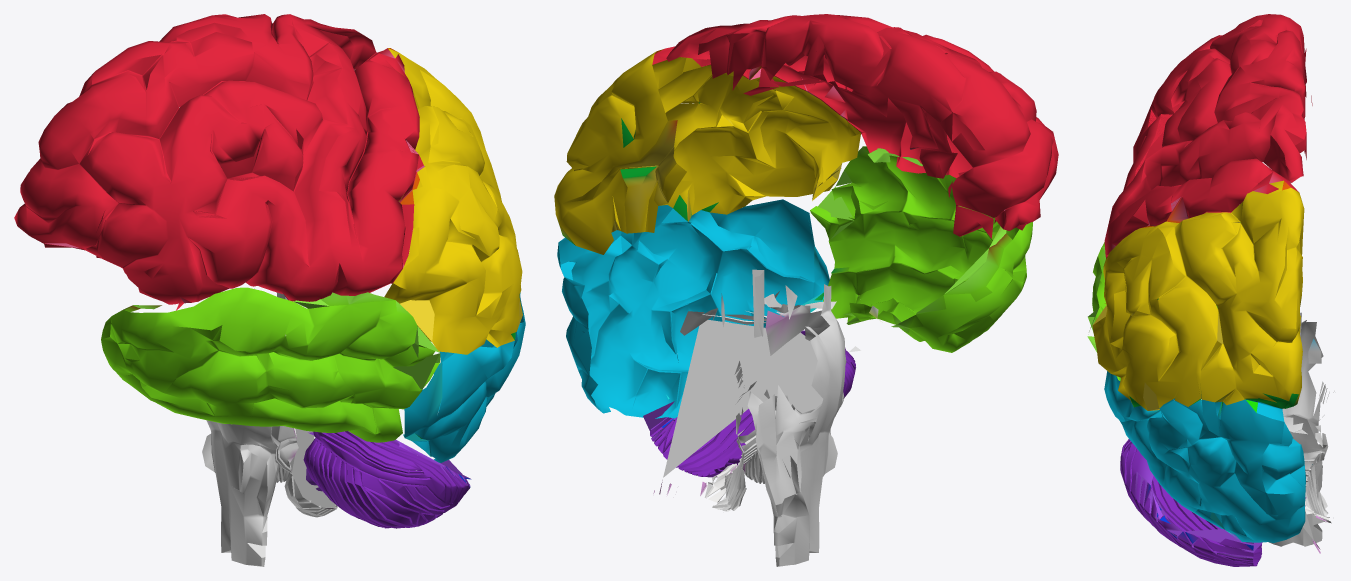
Rendered from brain.glb.
The picture shows the model from 3 angles, left to right: view 1: azimuth 30°, elevation 25°; view 2: azimuth 150°, elevation 25°; view 3: azimuth 270°, elevation 25°; orthographic projection. The views are drawn at different scales.
Visible parts, largest first — view 1: RedPart, GreenPart, YellowPart, VioletPart, WhitePart, BluePart; view 2: RedPart, YellowPart, BluePart, WhitePart, GreenPart, VioletPart; view 3: YellowPart, RedPart, BluePart, VioletPart, WhitePart, GreenPart.
Boxes of the visible parts, x1,y1,x2,y2 form: RedPart: [14, 14, 424, 310]; GreenPart: [101, 287, 440, 442]; YellowPart: [384, 48, 522, 354]; VioletPart: [303, 431, 471, 528]; WhitePart: [202, 288, 344, 566]; BluePart: [403, 292, 525, 462]; RedPart: [652, 14, 1058, 238]; YellowPart: [554, 52, 860, 254]; BluePart: [557, 199, 829, 418]; WhitePart: [653, 269, 878, 566]; GreenPart: [810, 146, 1032, 352]; VioletPart: [643, 330, 855, 477]; YellowPart: [1092, 180, 1304, 410]; RedPart: [1104, 14, 1312, 258]; BluePart: [1104, 371, 1312, 543]; VioletPart: [1120, 439, 1262, 566]; WhitePart: [1201, 312, 1334, 553]; GreenPart: [1087, 222, 1240, 380].
Size of the model in its own units: 0.2952 by 0.3237 by 0.1511.
